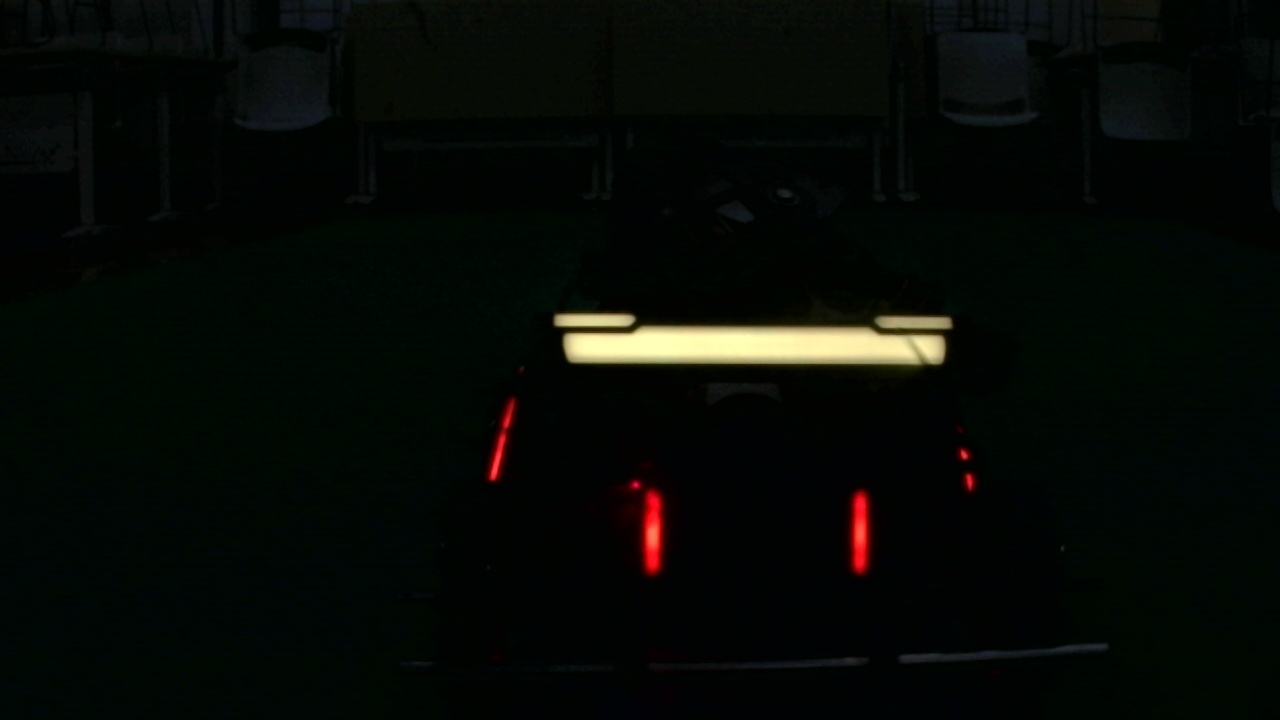lamp: (489, 385, 516, 481), (639, 486, 665, 570), (848, 489, 871, 582)
pair1: (638, 488, 871, 586)
